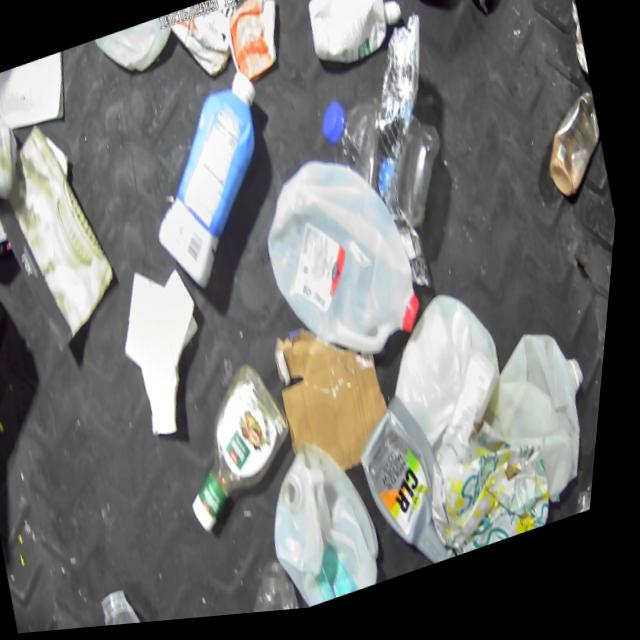can: (438, 0, 514, 25)
milk_jug: (244, 134, 451, 395), (369, 281, 536, 489), (255, 425, 409, 619), (477, 322, 614, 530), (88, 16, 182, 91), (557, 0, 599, 98)
non_white_jug: (121, 66, 307, 310), (346, 386, 487, 593)
plastic_bottle: (310, 69, 468, 260), (232, 552, 328, 621)
